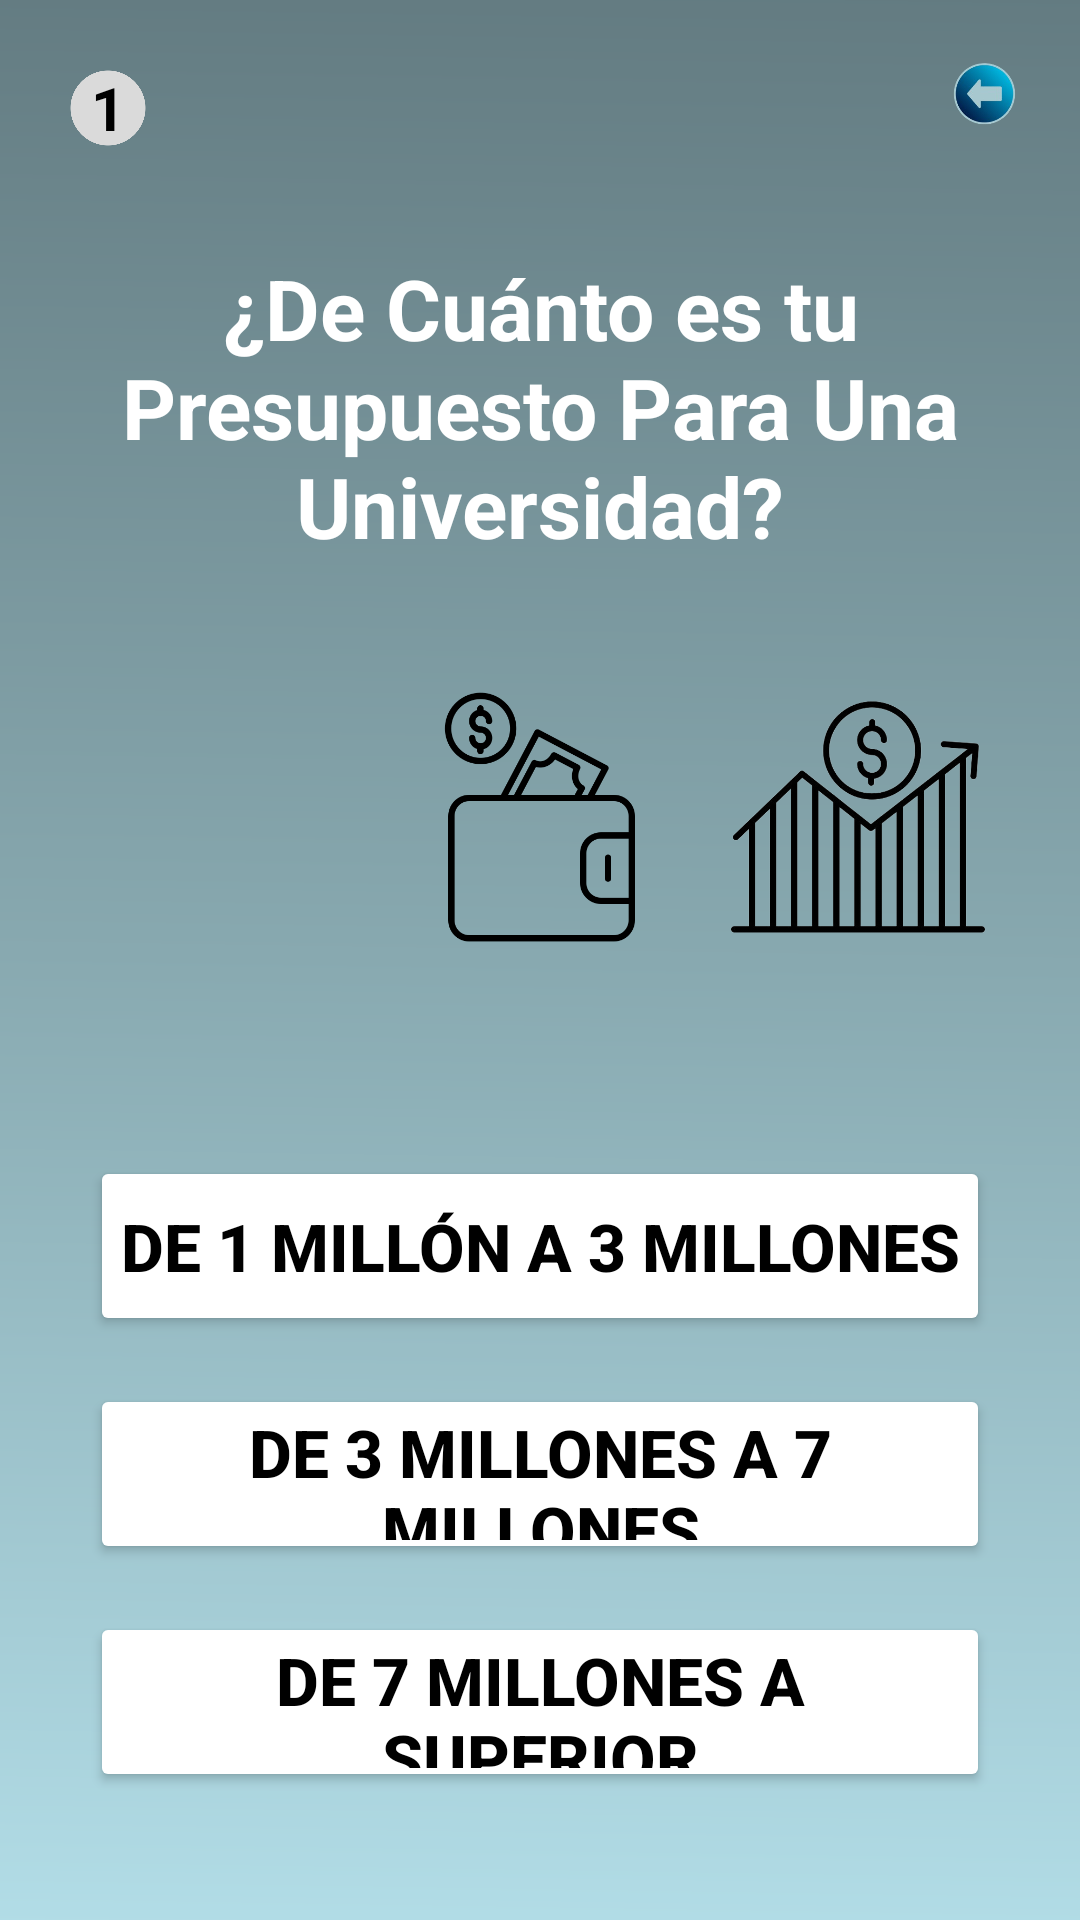

Named icons in this screenshot (1080*1920) and their bounding boxes, detection(x1, y1, x2, y2):
cartera: detection(445, 692, 635, 942)
crecimiento: detection(731, 701, 985, 933)
retroceso: detection(954, 63, 1015, 124)
